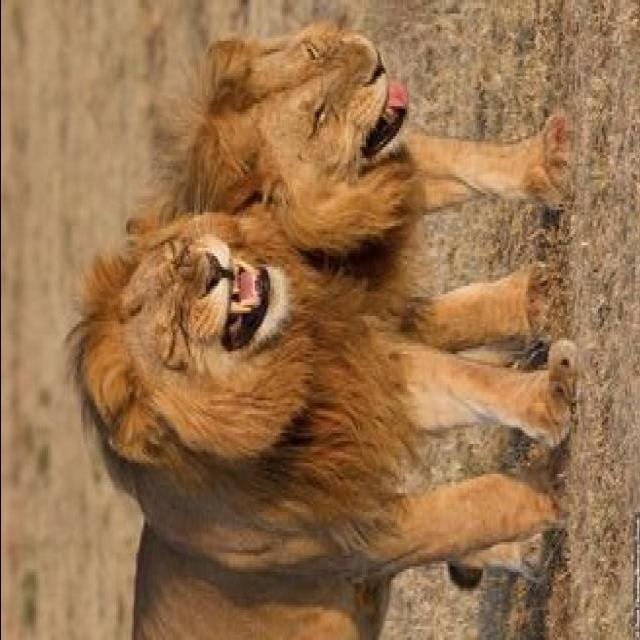lions: (8, 18, 640, 639)
